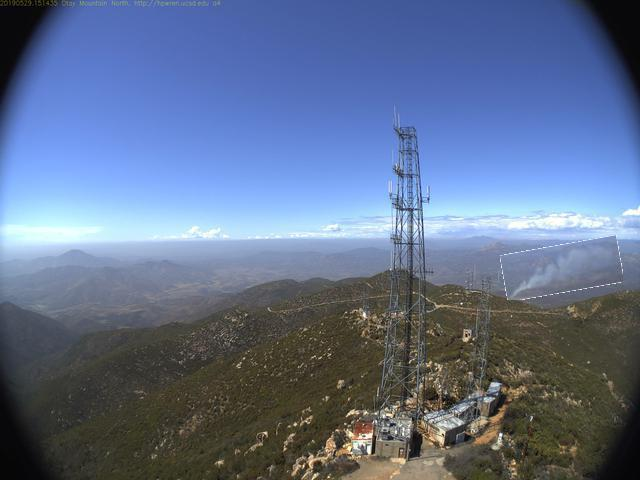smoke: (503, 241, 624, 298)
